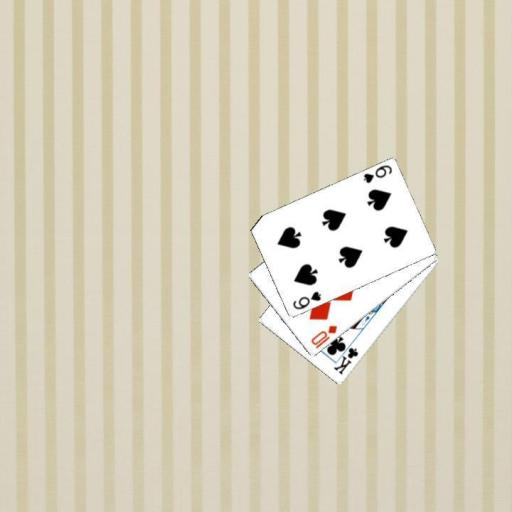card-corner: (330, 339, 360, 376), (308, 322, 338, 350), (360, 162, 393, 185), (290, 288, 322, 311)
